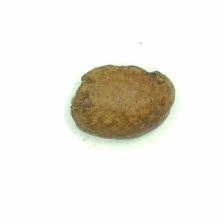NG: (106, 65, 167, 86), (68, 73, 89, 118)
